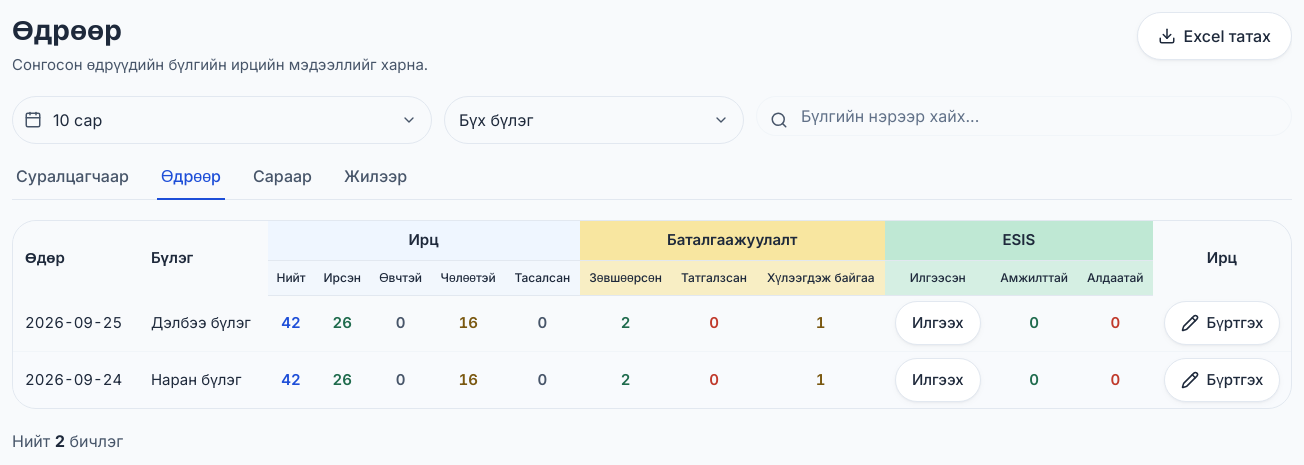
Scenario: the daily attendance register › narrows the table by group name
Click the tab "Өдрөөр".
click(191, 182)  # box [157,164,225,200]
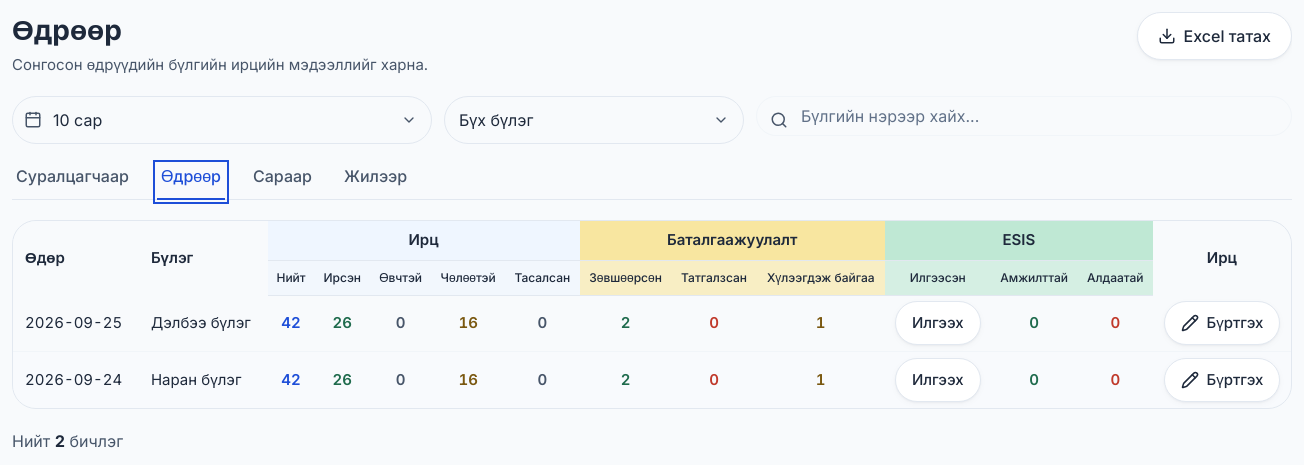
Expected: the table named "Өдөр тутмын ирцийн бүртгэл" is shown, [13,221,1291,408]
Type "Наран" into the search field labelled "Бүлгийн нэрээр хайх...".
click(1024, 116); type("Наран")  # box [756,96,1292,136]
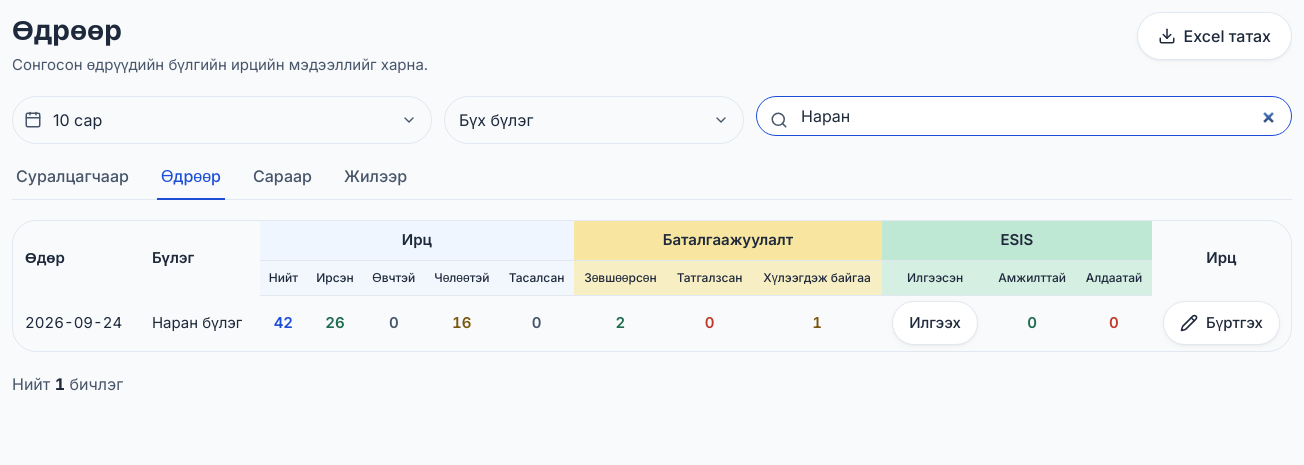
Expected: the text "Наран бүлэг" is shown, [140,295,260,351]
Expected: the text "Дэлбээ бүлэг" is gone
